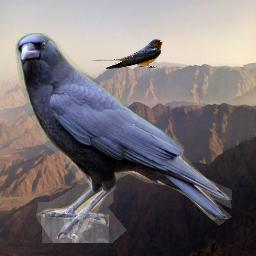Crow: (12, 33, 232, 243)
Swallow: (91, 38, 163, 69)
